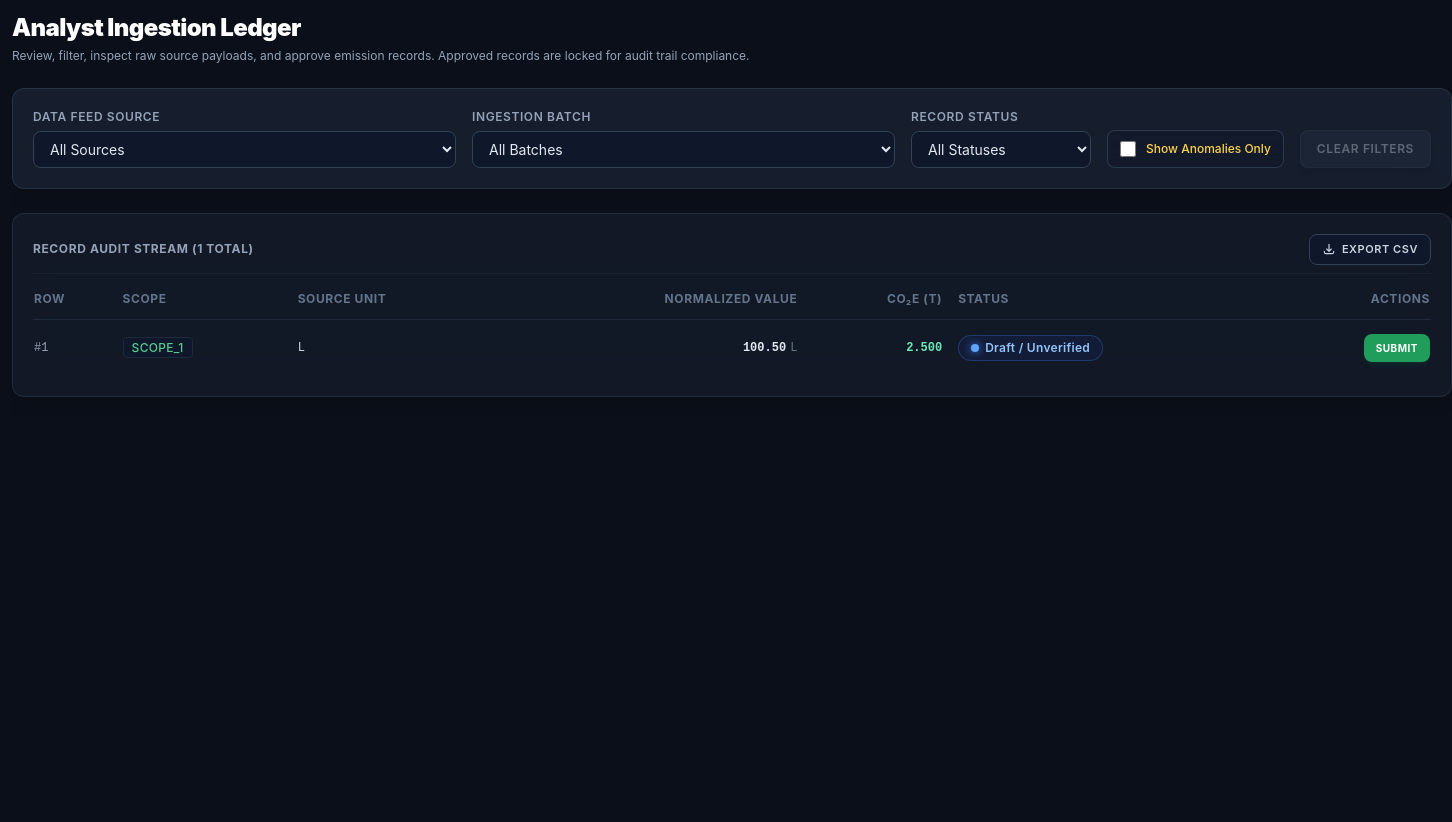
Test: RecordsPage › clicking a row selects it and opens the detail drawer
expect the text "SCOPE_1" is shown: met, box [123,336,193,358]
Click the button "SCOPE_1". click: (158, 347)
box: [33,319,1431,376]
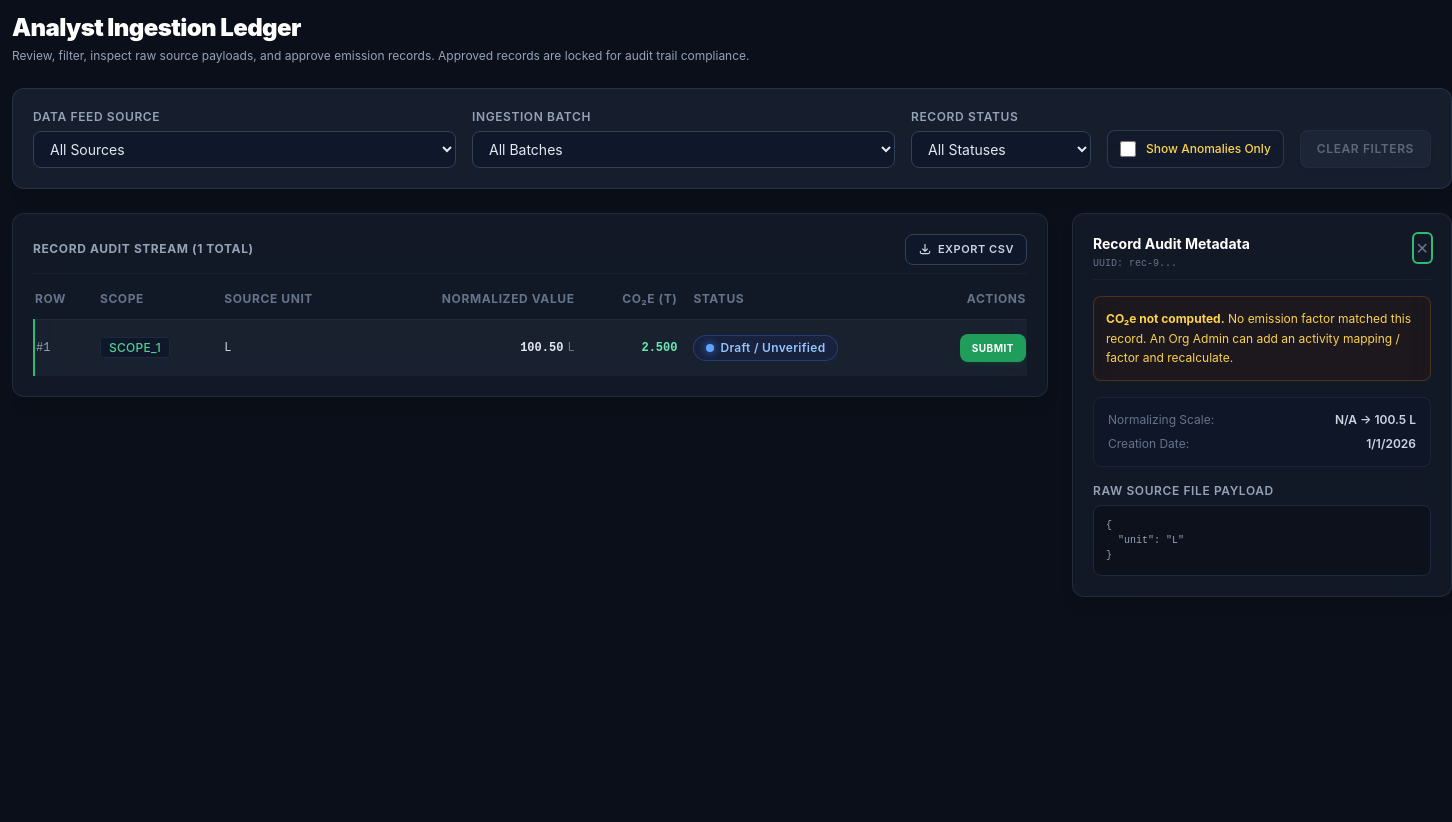
expect the heading "Record Audit Metadata" is shown: met, box [1093,234,1250,254]
